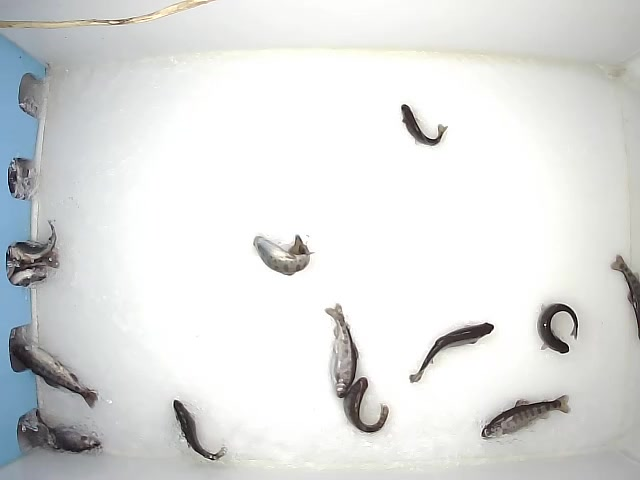fish: (10, 329, 102, 414), (408, 321, 496, 385), (479, 391, 570, 441), (322, 302, 361, 398), (170, 398, 227, 461), (250, 233, 317, 278), (341, 375, 390, 433), (26, 426, 110, 455), (536, 301, 579, 356), (398, 101, 449, 146)
